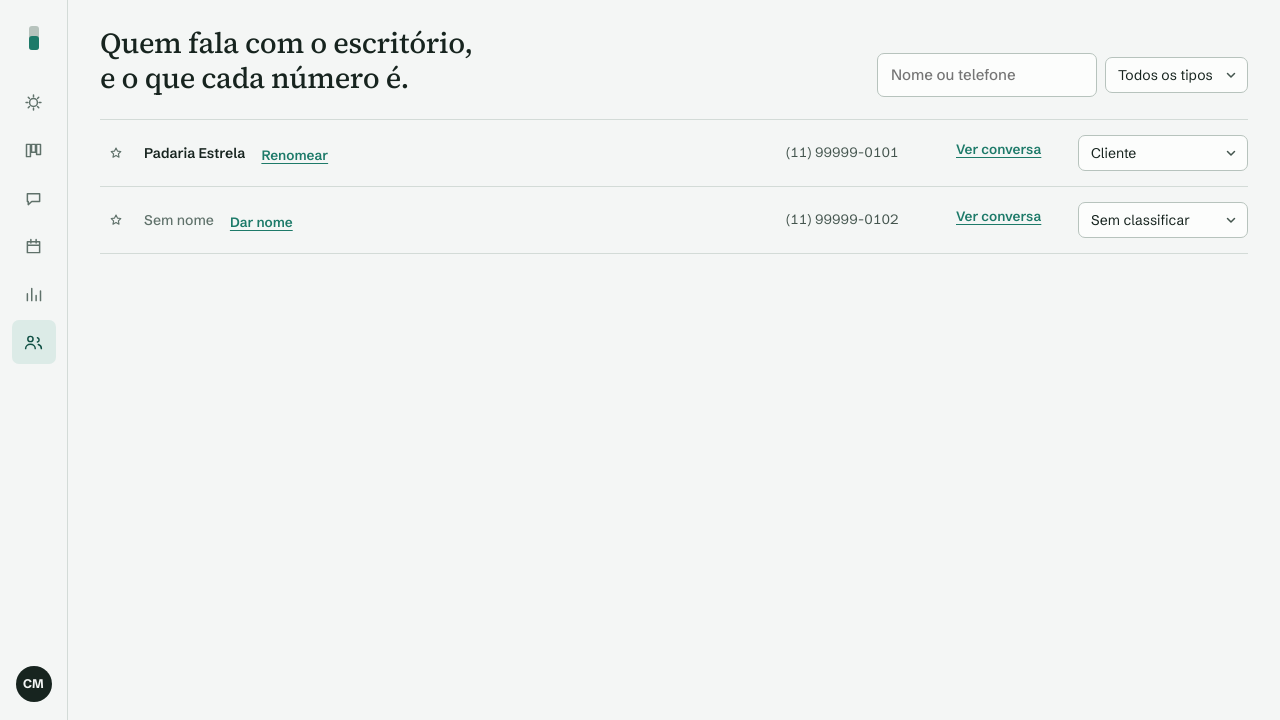
contacts page › explains a failed change
Step 1. Select "Fornecedor" in the dropdown named "Tipo de Padaria Estrela" → point(1163, 153), box [1078, 135, 1248, 171]
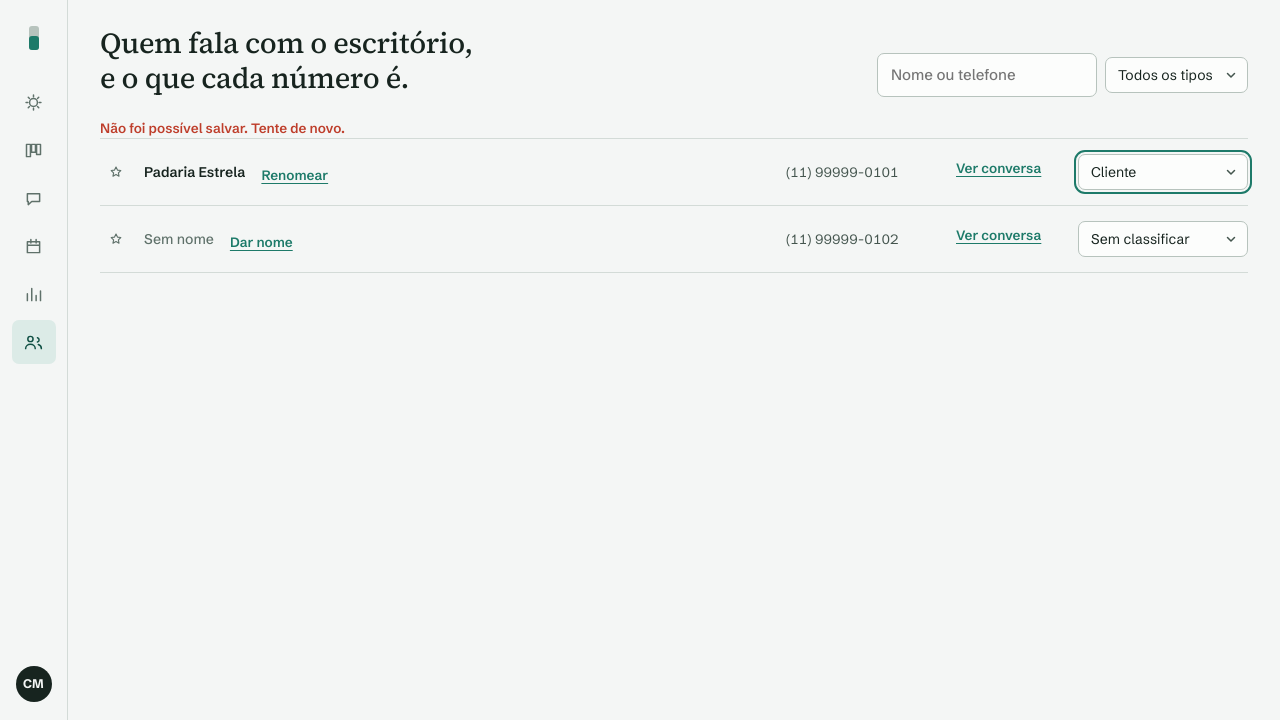
Expected: the message shows "Não foi possível salvar", [100, 120, 345, 136]
